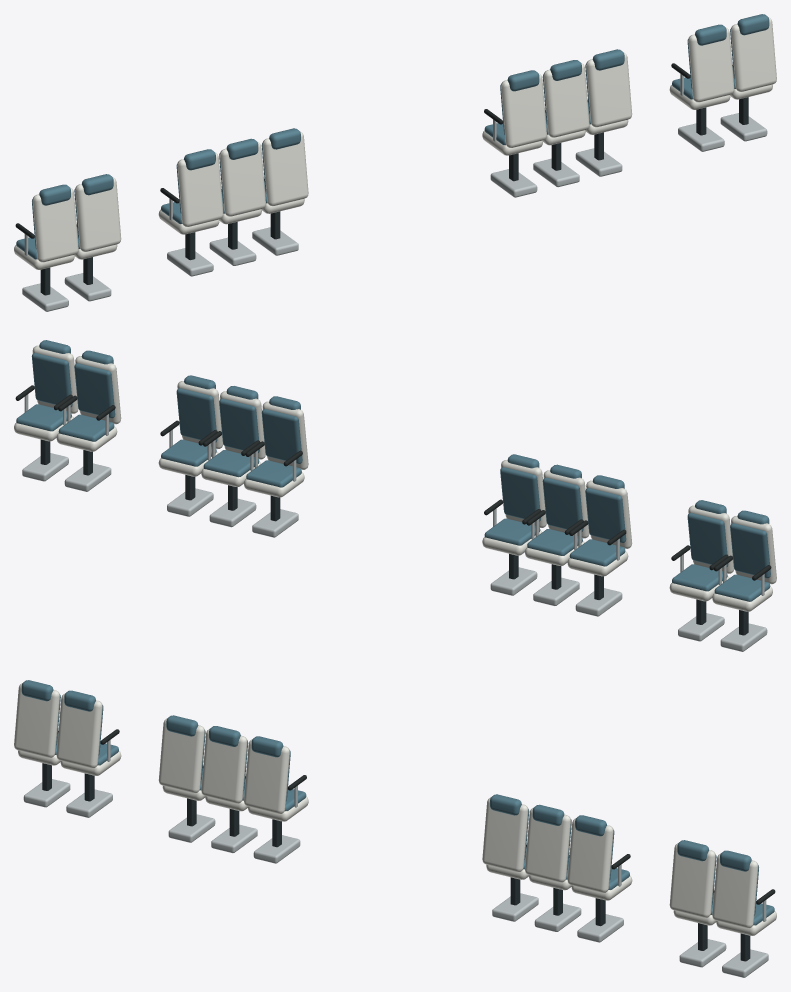
Rendered from ferry_seating_row_10.glb.
3 views of the same model, one above another, from view 1: azimuth 30°, elevation 25°; view 2: azimuth 150°, elevation 25°; view 3: azimuth 330°, elevation 25° (orthographic).
Visible parts, largest first — view 1: ferry_seating_row_10__Warm white painted steel, ferry_seating_row_10__Fixed_Stainless, ferry_seating_row_10__Paint_Upholstery, ferry_seating_row_10__Fixed_BlackHousing; view 2: ferry_seating_row_10__Paint_Upholstery, ferry_seating_row_10__Warm white painted steel, ferry_seating_row_10__Fixed_Stainless, ferry_seating_row_10__Fixed_BlackHousing, ferry_seating_row_10__Fixed_Rubber; view 3: ferry_seating_row_10__Warm white painted steel, ferry_seating_row_10__Fixed_Stainless, ferry_seating_row_10__Paint_Upholstery, ferry_seating_row_10__Fixed_BlackHousing.
Part boxes in pixels (<box>): ferry_seating_row_10__Warm white painted steel: <box>14,17,776,269</box>; ferry_seating_row_10__Fixed_Stainless: <box>22,74,767,311</box>; ferry_seating_row_10__Paint_Upholstery: <box>16,14,769,259</box>; ferry_seating_row_10__Fixed_BlackHousing: <box>40,97,748,295</box>; ferry_seating_row_10__Paint_Upholstery: <box>16,340,770,601</box>; ferry_seating_row_10__Warm white painted steel: <box>14,345,776,611</box>; ferry_seating_row_10__Fixed_Stainless: <box>22,394,767,651</box>; ferry_seating_row_10__Fixed_BlackHousing: <box>40,439,748,635</box>; ferry_seating_row_10__Fixed_Rubber: <box>15,385,771,580</box>; ferry_seating_row_10__Warm white painted steel: <box>14,683,776,935</box>; ferry_seating_row_10__Fixed_Stainless: <box>23,740,768,977</box>; ferry_seating_row_10__Paint_Upholstery: <box>21,680,774,925</box>; ferry_seating_row_10__Fixed_BlackHousing: <box>42,763,750,961</box>.
Bounding box in the file's own units: 8.69 × 1.35 × 0.582.
